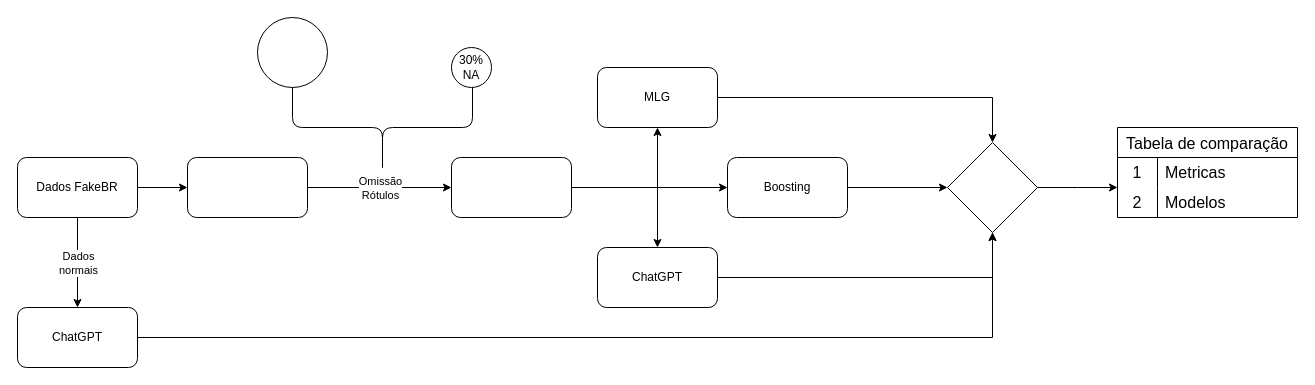
Some shapes in this 1315 by 385 pixel diagram are drawn without their labels. Here are the shapes that lost their labels. From the top down, the centre of each, then its label:
At pixel 292 52: "70% Rotulado".
At pixel 247 187: "Pre-processamento".
At pixel 511 187: "Rotulagem fraca".
At pixel 992 187: "Análise Resultados".
